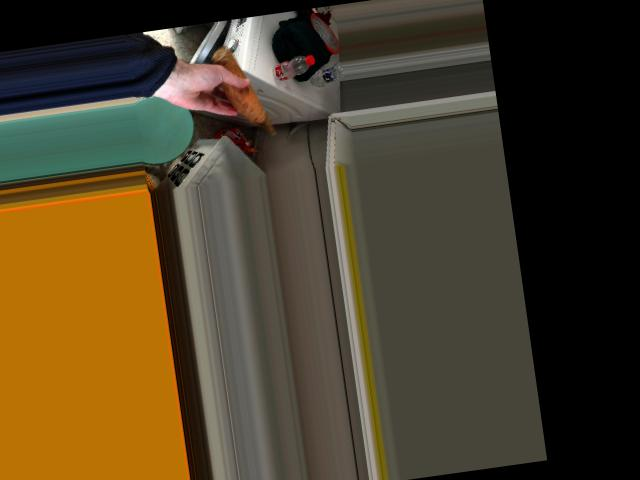sweet_potato: (212, 48, 267, 120)
